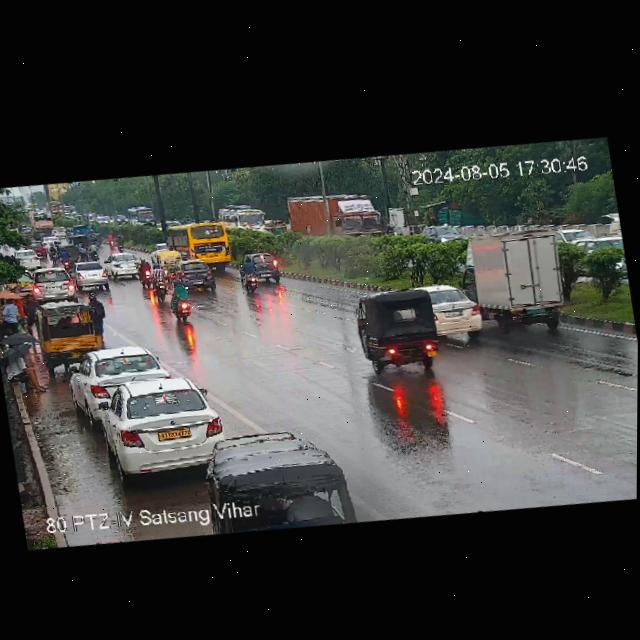bus: (166, 217, 235, 272), (127, 204, 158, 231), (45, 198, 65, 216), (62, 203, 77, 217)
car: (195, 414, 342, 544), (92, 366, 228, 489), (353, 280, 449, 376), (67, 337, 170, 414), (35, 299, 110, 367), (428, 280, 489, 361), (30, 263, 81, 306), (170, 257, 217, 296), (222, 204, 274, 236), (239, 248, 283, 285), (421, 218, 468, 252), (105, 249, 150, 282), (71, 261, 110, 295), (12, 246, 45, 271), (556, 223, 589, 247), (155, 248, 184, 269), (60, 242, 82, 265), (27, 240, 48, 258), (148, 239, 167, 255), (53, 225, 68, 239), (20, 227, 35, 241), (113, 214, 128, 227), (43, 234, 60, 245)
motorcycle: (166, 278, 194, 323), (146, 259, 172, 300), (240, 253, 266, 293), (135, 255, 154, 290), (88, 241, 102, 261), (78, 242, 90, 262), (48, 243, 58, 264), (59, 250, 70, 268), (115, 234, 125, 252), (106, 231, 116, 249), (53, 240, 61, 259), (94, 230, 103, 246)
person: (3, 332, 46, 399), (85, 290, 112, 343), (0, 296, 26, 338)
truck: (461, 207, 596, 339), (283, 183, 397, 254), (27, 209, 54, 234), (66, 222, 89, 245)
